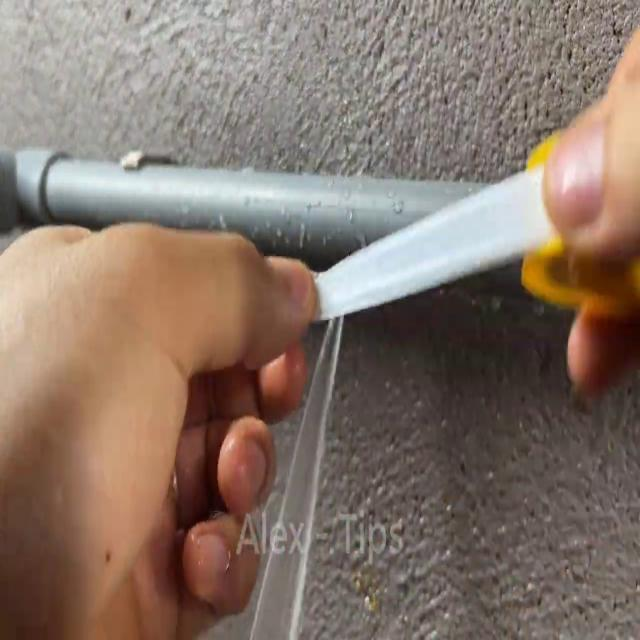leak: (245, 313, 349, 640)
